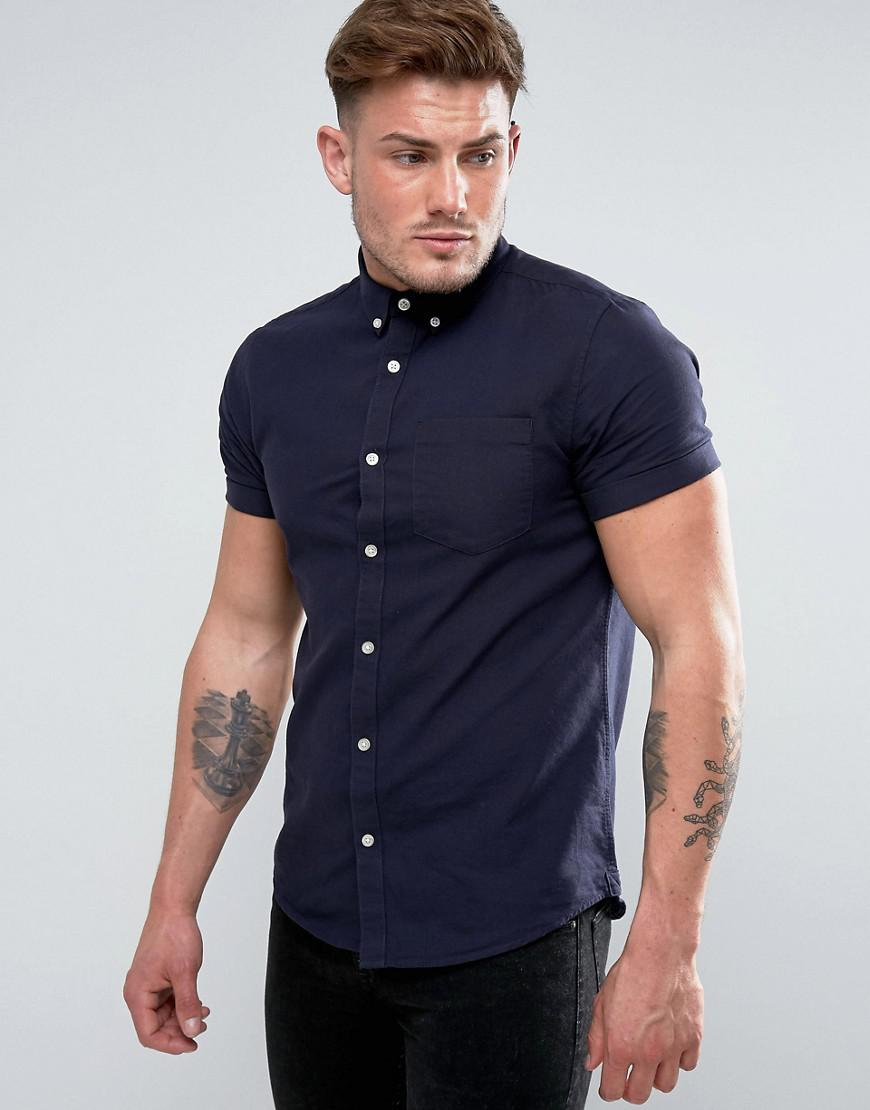teeshirt: (183, 239, 720, 968)
